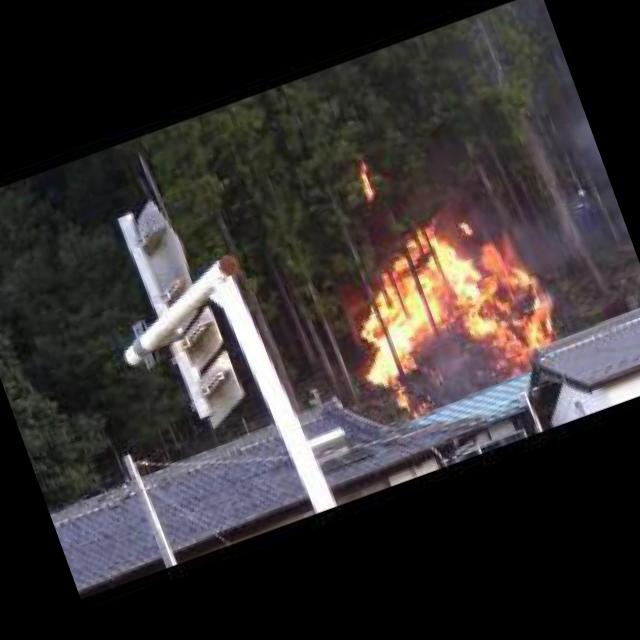fire: (320, 187, 574, 426), (354, 157, 379, 200)
smoke: (538, 64, 632, 252)
